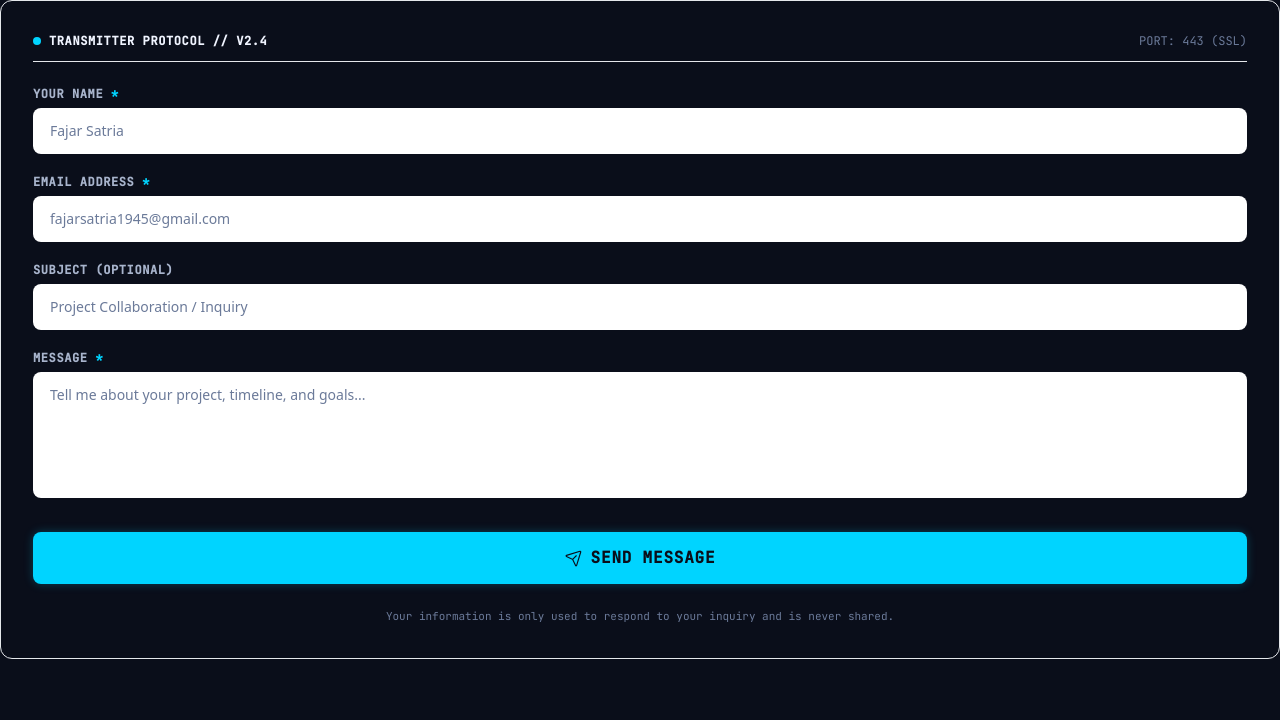
Test: ContactForm Component › transitions to success state on valid submission and allows reset (TC-012)
This screenshot has width=1280, height=720.
Type "Alex Recruiter" into the field labelled "Your Name *". click: [640, 131]
box: [33, 108, 1247, 154]
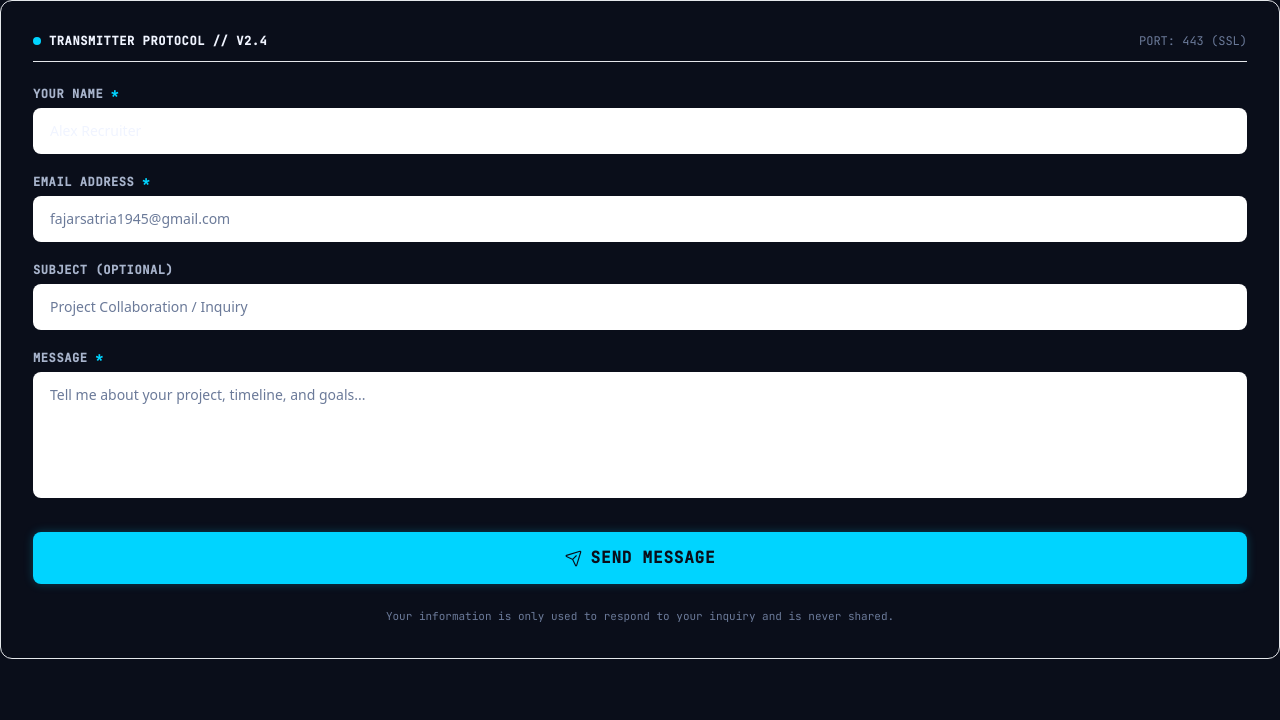
Type "alex@company.com" into the field labelled "Email Address *". click: [640, 219]
box: [33, 196, 1247, 242]
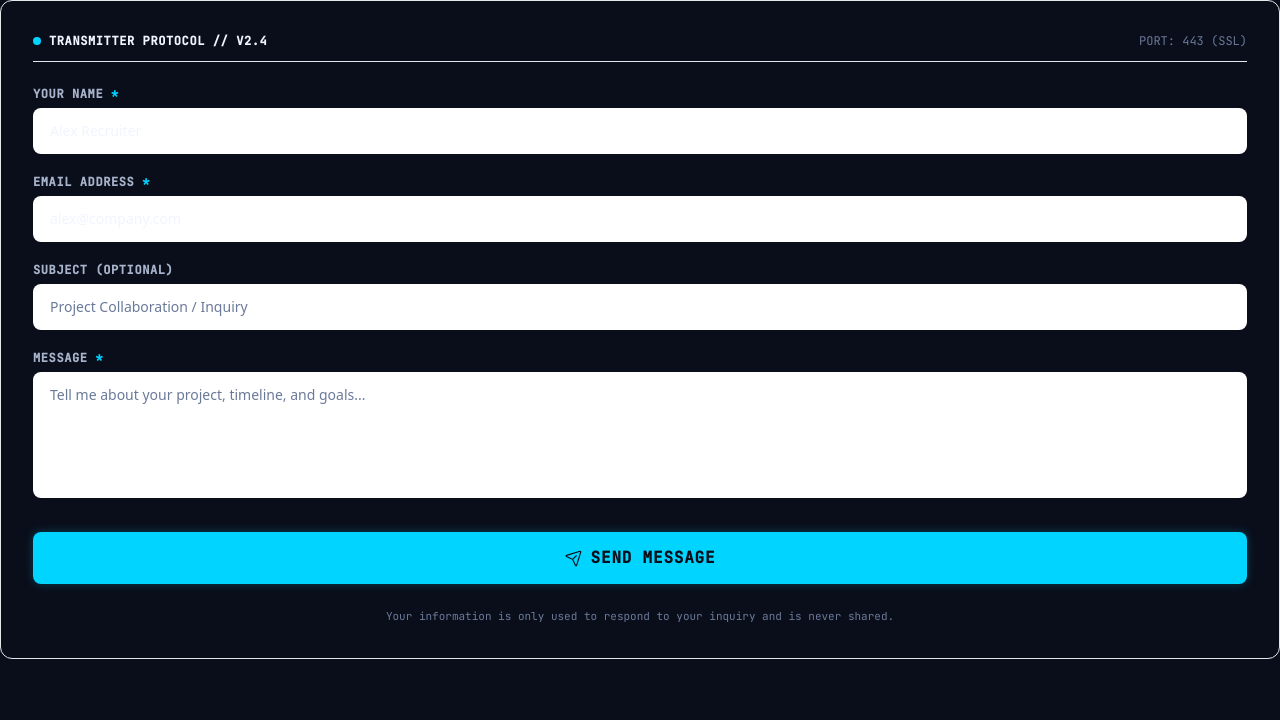
Type "Full-Stack Role" into the field labelled "Subject (Optional)". click: [640, 307]
box: [33, 284, 1247, 330]
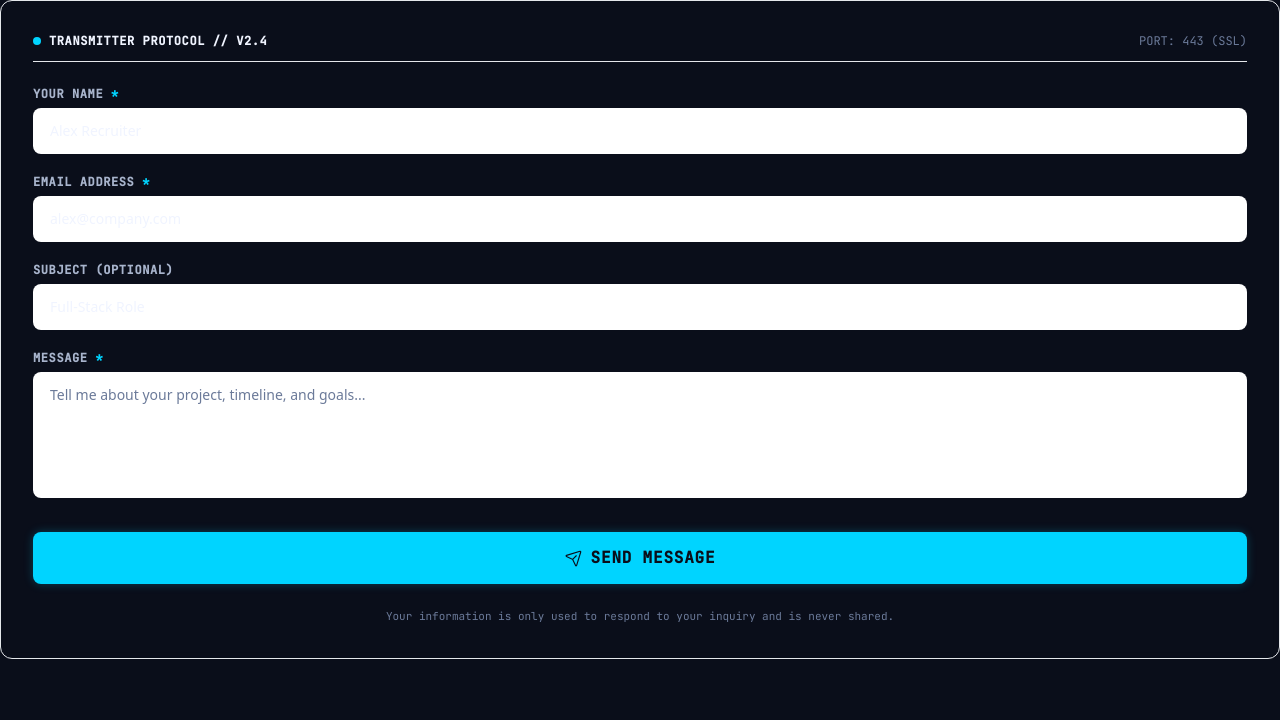
Type "Hi Fajar, we are impressed by your TIMS and YOLOv8 work!" into the text box labelled "Message *". click: [640, 435]
box: [33, 372, 1247, 498]
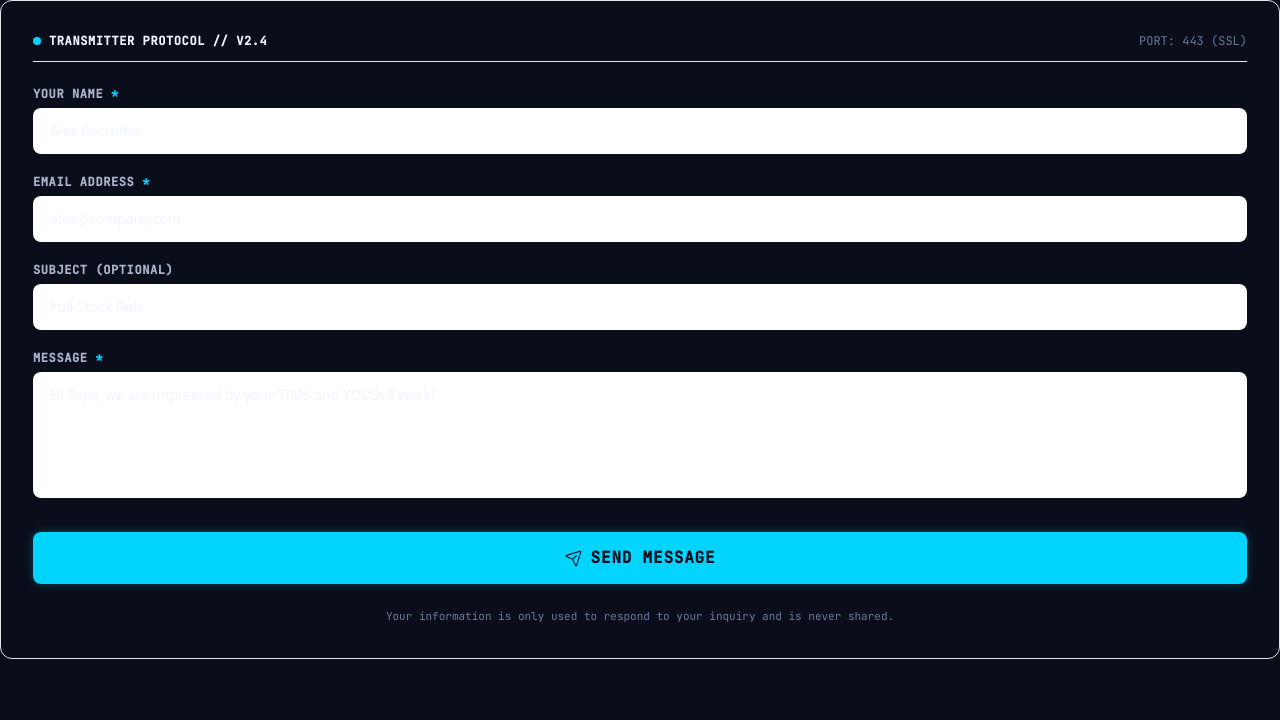
Click the button "Send Message". click: [640, 558]
box: [33, 532, 1247, 584]
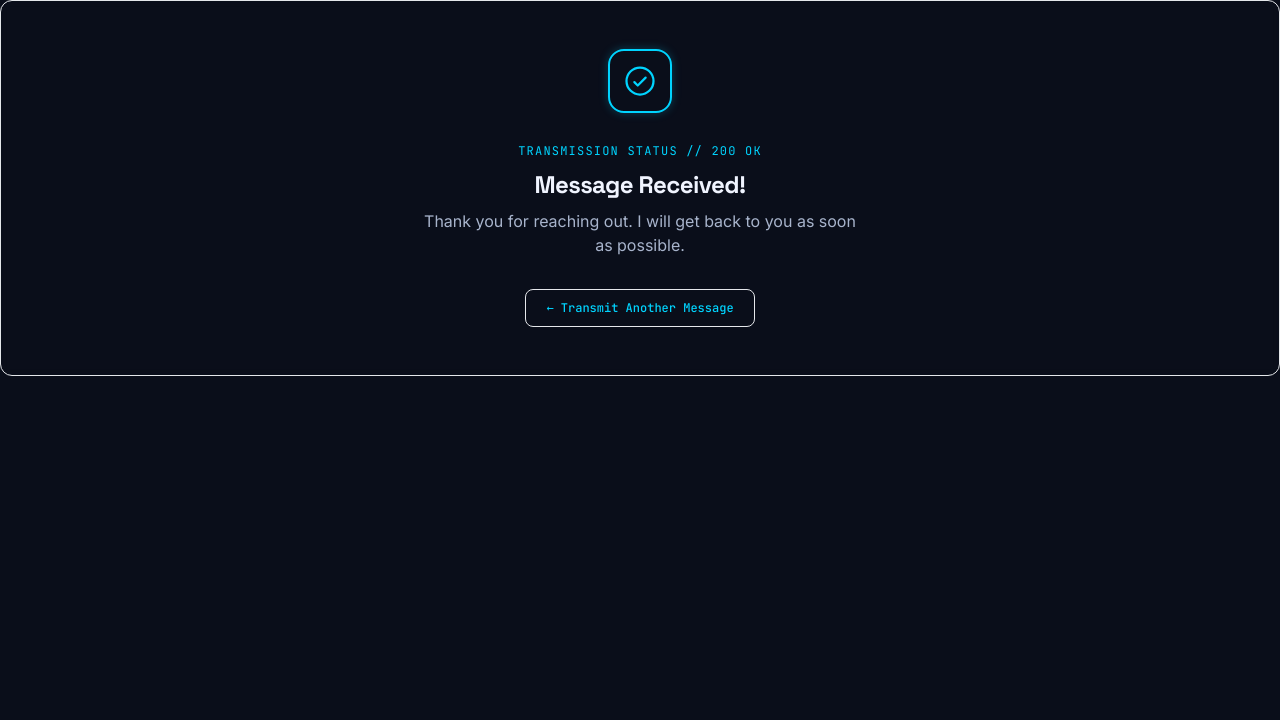
Expected: the heading "Message Received!" is shown, [534, 169, 746, 200]
Note: Reset button
Click the button "← Transmit Another Message". click: [640, 308]
box: [525, 289, 755, 327]
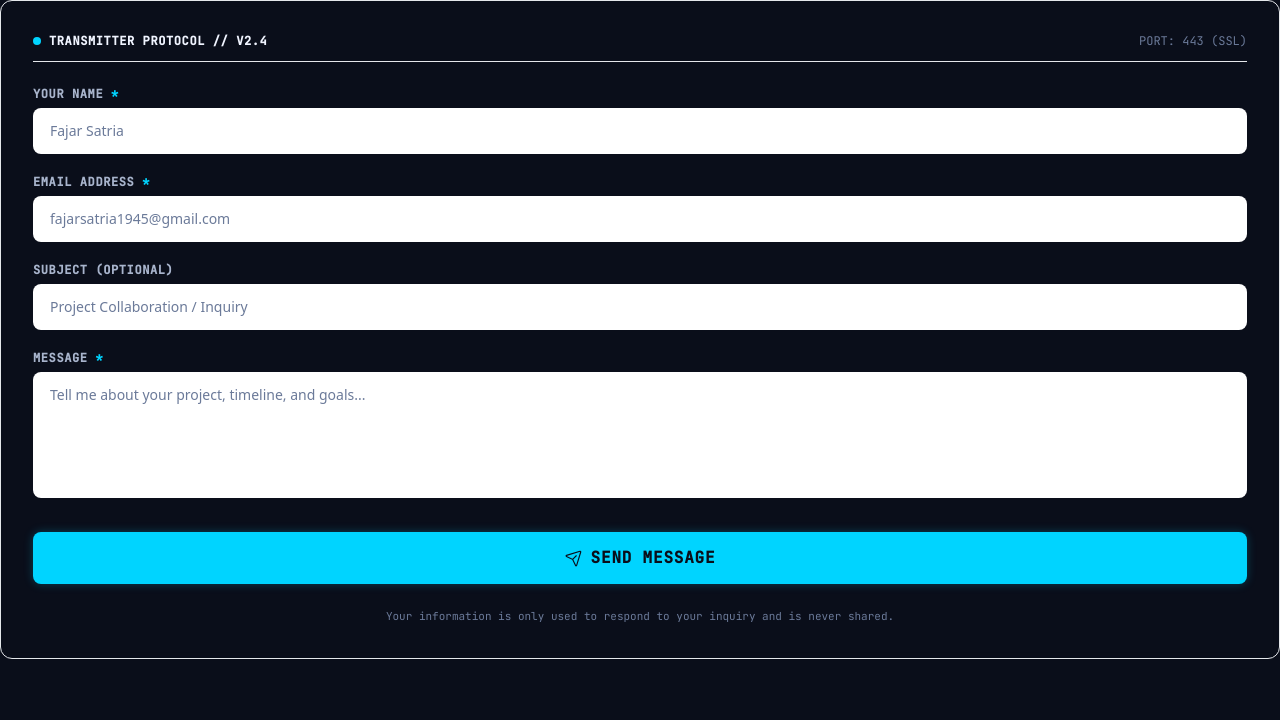
Expected: the field labelled "Your Name *" is empty, [33, 108, 1247, 154]
